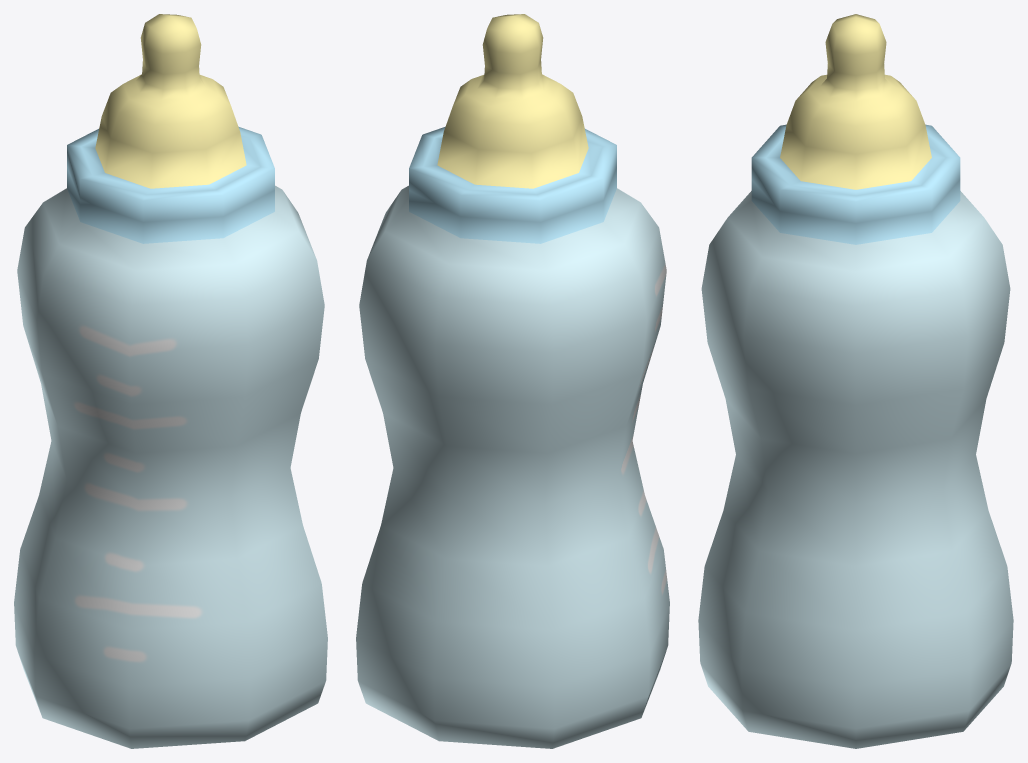
Rendered from Bottle.fbx.
3 renders of one model, left to right at view 1: azimuth 30°, elevation 25°; view 2: azimuth 150°, elevation 25°; view 3: azimuth 270°, elevation 25°, orthographic.
Visible parts, largest first — view 1: Cube; view 2: Cube; view 3: Cube.
Boxes of the visible parts, x1,y1,x2,y2 form: Cube: (14,14,327,748); Cube: (356,14,669,748); Cube: (698,14,1013,748).
Bounding box in the file's own units: 111 × 265 × 111.
1 material, 1 textured.
